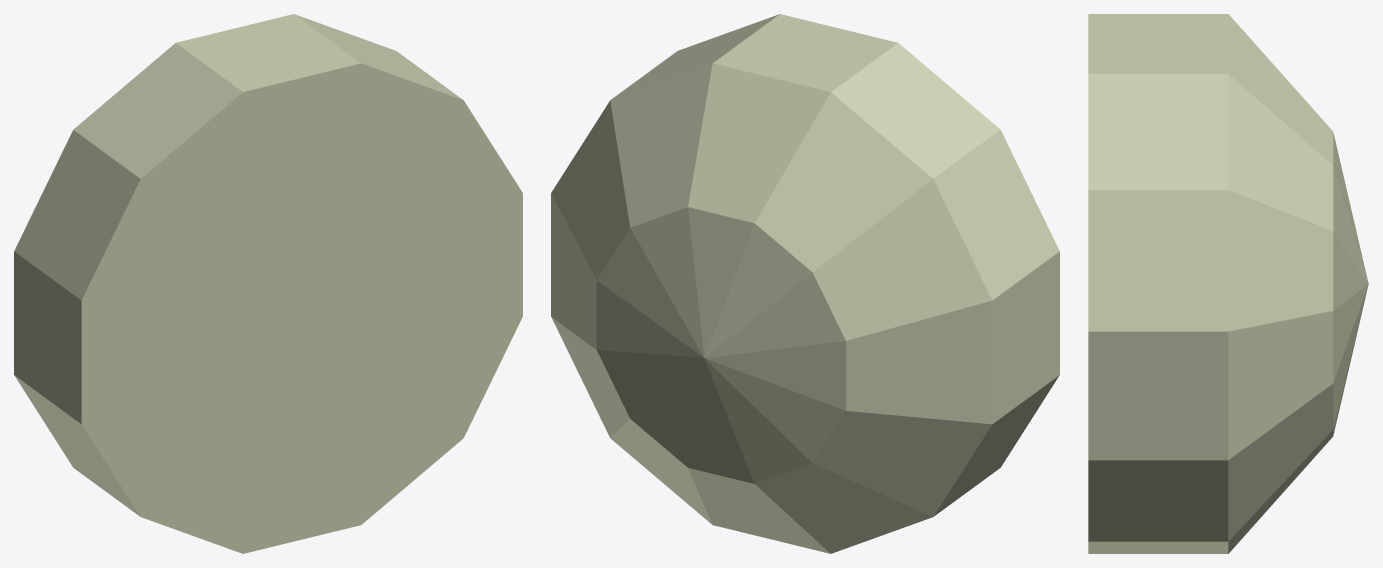
Rendered from libra_crew_s0p5_1_collider.obj.
3 views of the same model, side by side, from view 1: azimuth 30°, elevation 25°; view 2: azimuth 150°, elevation 25°; view 3: azimuth 270°, elevation 25° (orthographic). The views are drawn at different scales.
Parts seen in each view (by area): view 1: libra_crew_s0p5_1_collider; view 2: libra_crew_s0p5_1_collider; view 3: libra_crew_s0p5_1_collider.
Part boxes in pixels (box(x1,y1,x2,y2)): libra_crew_s0p5_1_collider: box(14, 14, 522, 553); libra_crew_s0p5_1_collider: box(551, 14, 1059, 553); libra_crew_s0p5_1_collider: box(1088, 14, 1368, 553).
Size of the model in its own units: 0.85 by 0.85 by 0.45.
